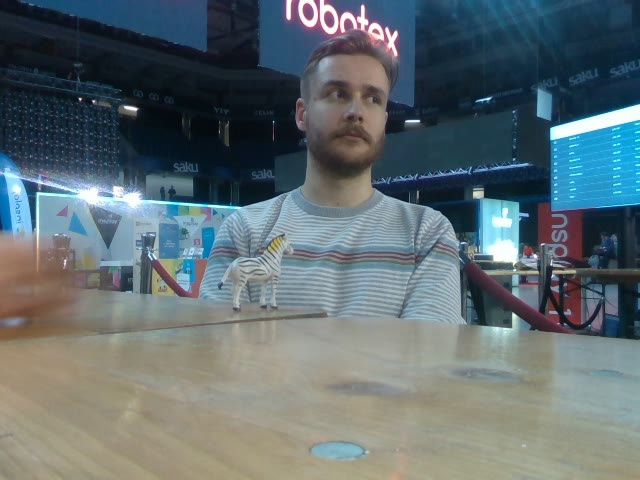toy: (219, 232, 296, 313)
